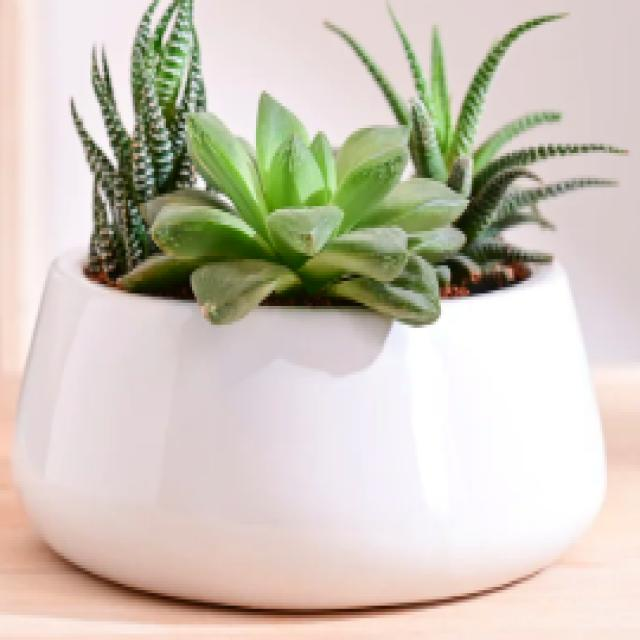Plant Pot: (6, 229, 626, 621)
